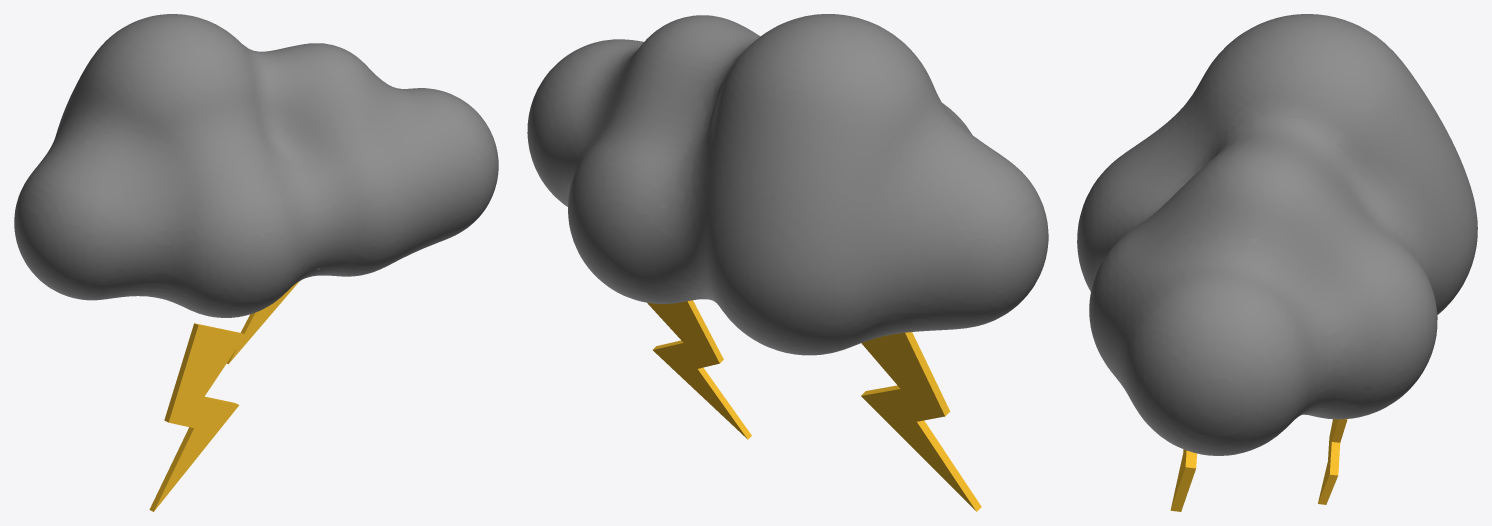
The model's file is thunderstorm.glb.
The picture shows the model from 3 angles, left to right: view 1: azimuth 30°, elevation 25°; view 2: azimuth 150°, elevation 25°; view 3: azimuth 270°, elevation 25°; orthographic projection. The views are drawn at different scales.
Parts seen in each view (by area): view 1: Mball.006; view 2: Mball.006; view 3: Mball.006.
Part boxes in pixels (x1,y1,x2,y2): Mball.006: [14, 14, 498, 511]; Mball.006: [527, 14, 1048, 511]; Mball.006: [1077, 14, 1477, 511].
Size of the model in its own units: 5.09 by 4.75 by 3.25.
